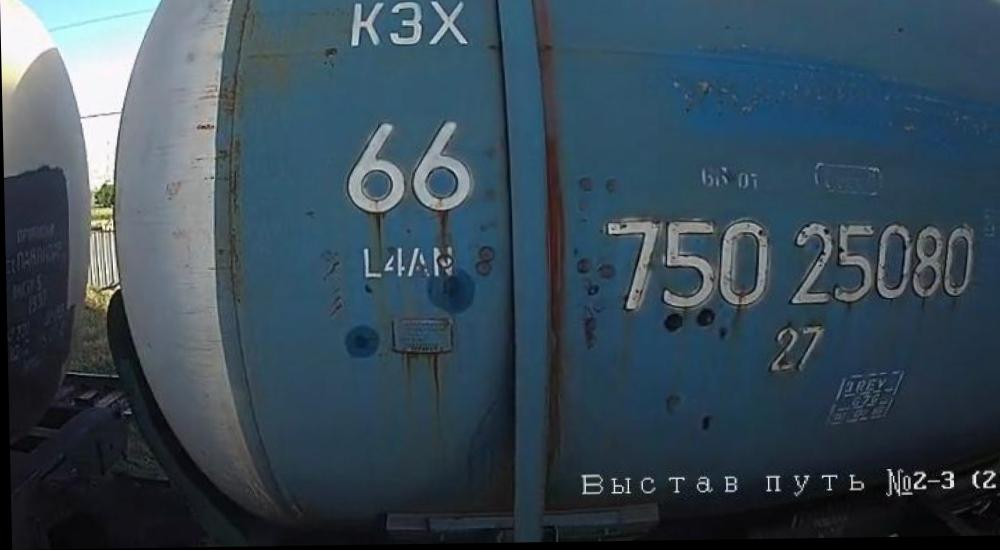Wagon-number: (591, 214, 980, 314)
